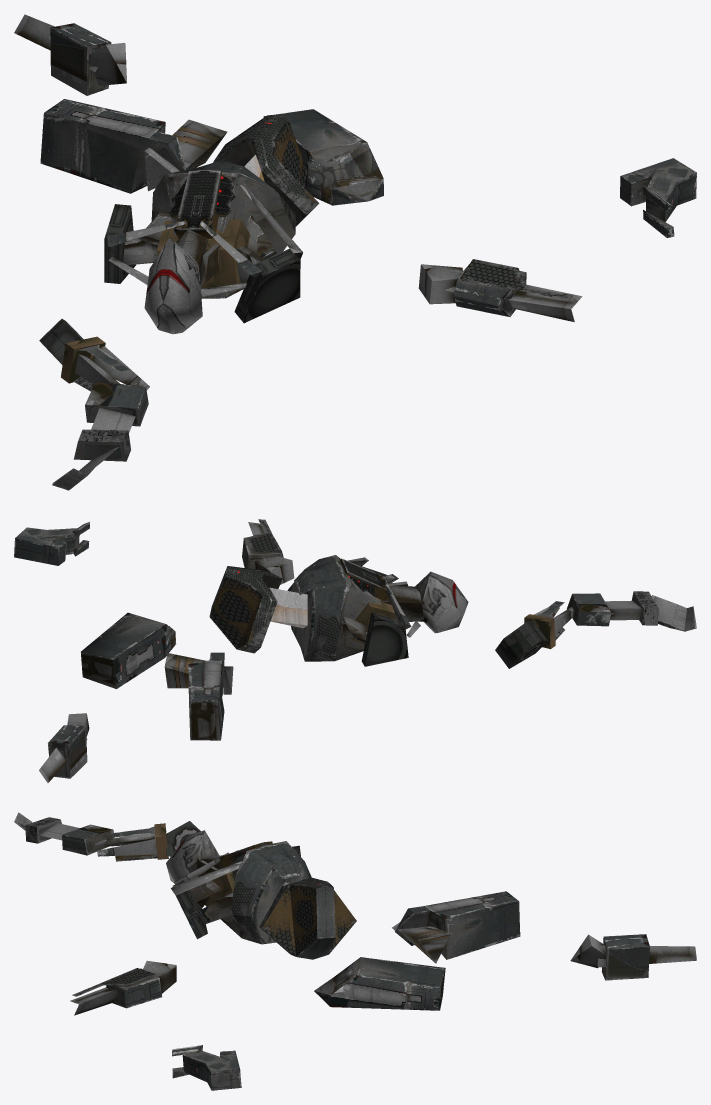
File: Vehicle_Robot004_lod1.glb
3 renders of one model, top to bottom at view 1: azimuth 30°, elevation 25°; view 2: azimuth 150°, elevation 25°; view 3: azimuth 270°, elevation 25°, orthographic. The views are drawn at different scales.
Visible parts, largest first — view 1: tianwang_robot004_lod1; view 2: tianwang_robot004_lod1; view 3: tianwang_robot004_lod1.
Boxes of the visible parts, x1=… form: tianwang_robot004_lod1: x1=14, y1=14, x2=696, y2=490; tianwang_robot004_lod1: x1=14, y1=519, x2=696, y2=782; tianwang_robot004_lod1: x1=14, y1=812, x2=696, y2=1090.
Bounding box in the file's own units: 4.17 × 0.6979 × 4.36.
1 material, 1 textured.
